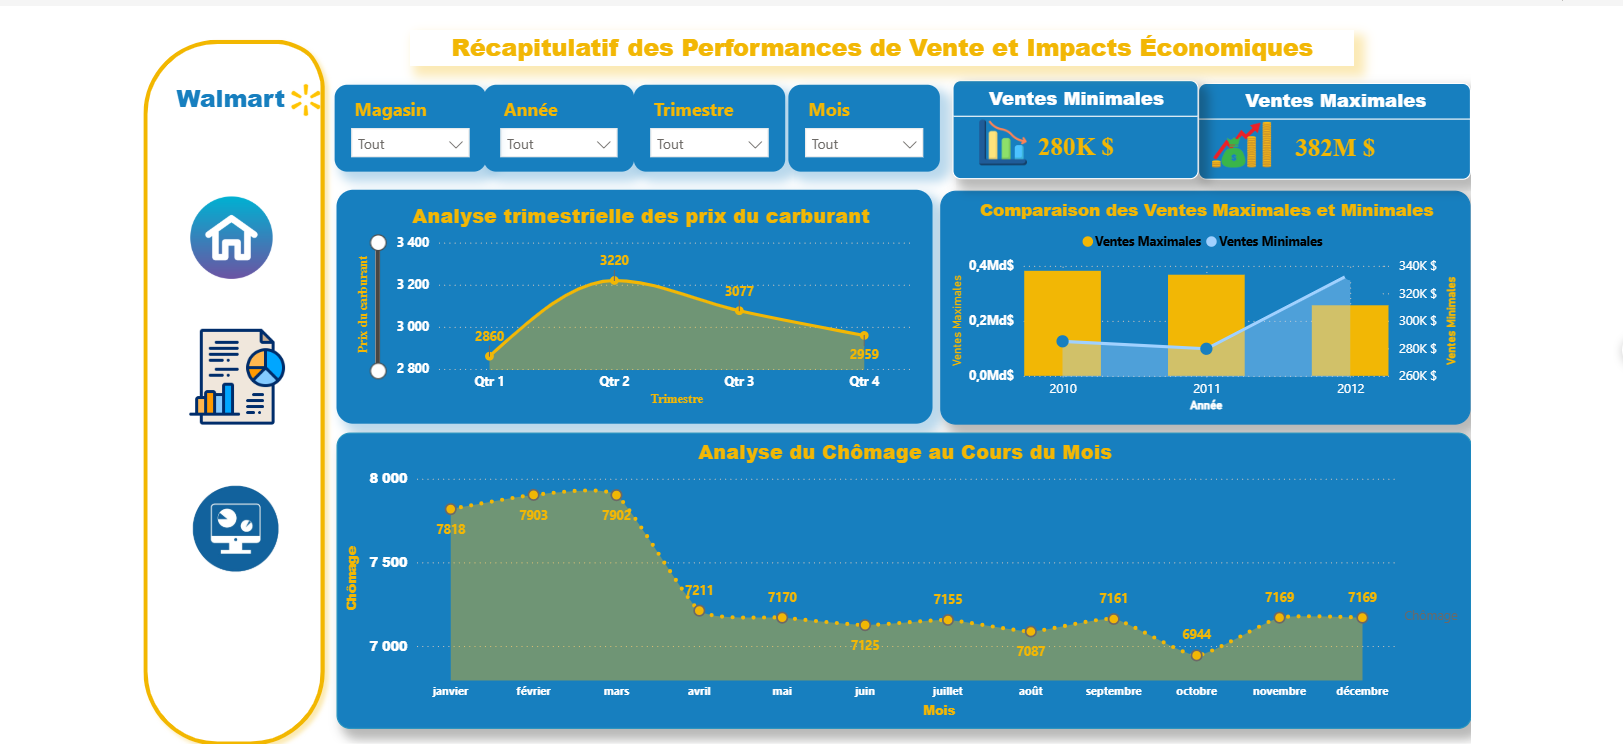

The dashboard page shown, as its layout file describes it:
{"tool":"powerbi","page":{"name":"Résumé des Tendances Clés","canvas":[1280,720],"ordinal":2},"visuals":[{"type":"slicer","fields":{"Values":["Walmart_Sales.Date.Variation.Hiérarchie de dates.Année"]},"box":[334.8,75.8,143.9,83.7],"z":0},{"type":"slicer","fields":{"Values":["Walmart_Sales.Date.Variation.Hiérarchie de dates.Trimestre"]},"box":[478.6,75.8,145.2,83.7],"z":1000},{"type":"slicer","fields":{"Values":["Walmart_Sales.Date.Variation.Hiérarchie de dates.Mois"]},"box":[626.4,75.8,145.2,83.7],"z":2000},{"type":"slicer","title":"Ma","fields":{"Values":["Dimention M.Store"]},"box":[192.2,75.8,145.2,83.7],"z":3000},{"type":"shape","box":[0,23,191.7,693.8],"z":4000},{"type":"image","box":[29.4,438.3,135.4,123.9],"z":5000},{"type":"image","box":[47.3,301.5,102.2,106],"z":6000},{"type":"image","box":[48.6,176.3,89.4,90.7],"z":7000},{"type":"textbox","title":"   Walmart","box":[0,71.6,185.3,77.9],"z":8000},{"type":"image","box":[122.7,46,84.3,88.2],"z":9000},{"type":"lineClusteredColumnComboChart","title":"Comparaison des Ventes Maximales et Minimales","fields":{"Category":["Walmart_Sales.Date.Variation.Hiérarchie de dates.Année"],"Y":["Dimention M.Max_Weekly_Sales"],"Y2":["Dimention M.Min_Weekly_Sales"]},"box":[771.8,176.5,508.2,223.5],"z":10000},{"type":"card","title":" Ventes Maximales","fields":{"Values":["Dimention M.Max_Weekly_Sales"]},"box":[1018.7,73.2,261.5,92.8],"z":11000},{"type":"card","title":"Ventes Minimales","fields":{"Values":["Dimention M.Min_Weekly_Sales"]},"box":[783.3,70.6,235.4,95.5],"z":12000},{"type":"image","box":[1026.6,17,66.7,231.5],"z":13000},{"type":"image","box":[800.3,90.2,62.8,79.8],"z":14000},{"type":"areaChart","title":"Analyse trimestrielle des prix du carburant","fields":{"Category":["Walmart_Sales.Date.Variation.Hiérarchie de dates.Trimestre"],"Y":["Avg(Walmart_Sales.Prix du carburant)"]},"box":[193.6,175.6,570.5,224.4],"z":15000},{"type":"lineChart","title":"Analyse du Chômage au Cours du Mois","fields":{"Category":["Walmart_Sales.Date.Variation.Hiérarchie de dates.Mois"],"Y":["Avg(Walmart_Sales.Chômage)"]},"box":[193.5,408,1086.7,283.8],"z":16000},{"type":"textbox","title":"Récapitulatif des Performances de Vente et Impacts Économiques","box":[264.2,23.5,904.9,34],"z":17000}]}

Visuals, with their boxes on the page's 1280x720 design canvas (x1, y1, x2, y2). These are canvas units, not pixel positions in the 1623x744 screenshot, which may show the page scaled, cropped or inside an application window:
slicer - Walmart_Sales.Date.Variation.Hiérarchie de dates.Année: select_region(335, 76, 479, 160)
slicer - Walmart_Sales.Date.Variation.Hiérarchie de dates.Trimestre: select_region(479, 76, 624, 160)
slicer - Walmart_Sales.Date.Variation.Hiérarchie de dates.Mois: select_region(626, 76, 772, 160)
"Ma" slicer: select_region(192, 76, 337, 160)
shape: select_region(0, 23, 192, 717)
image: select_region(29, 438, 165, 562)
image: select_region(47, 302, 150, 408)
image: select_region(49, 176, 138, 267)
"   Walmart" textbox: select_region(0, 72, 185, 150)
image: select_region(123, 46, 207, 134)
"Comparaison des Ventes Maximales et Minimales" lineClusteredColumnComboChart: select_region(772, 176, 1280, 400)
" Ventes Maximales" card: select_region(1019, 73, 1280, 166)
"Ventes Minimales" card: select_region(783, 71, 1019, 166)
image: select_region(1027, 17, 1093, 248)
image: select_region(800, 90, 863, 170)
"Analyse trimestrielle des prix du carburant" areaChart: select_region(194, 176, 764, 400)
"Analyse du Chômage au Cours du Mois" lineChart: select_region(194, 408, 1280, 692)
"Récapitulatif des Performances de Vente et Impacts Économiques" textbox: select_region(264, 24, 1169, 58)
